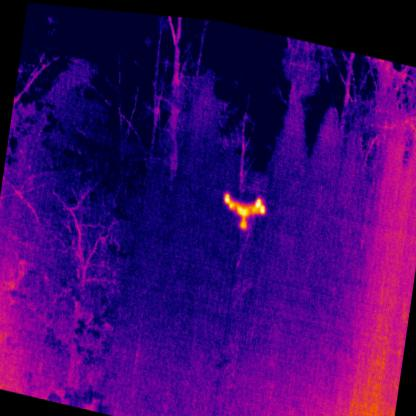drone: (218, 181, 266, 228)
